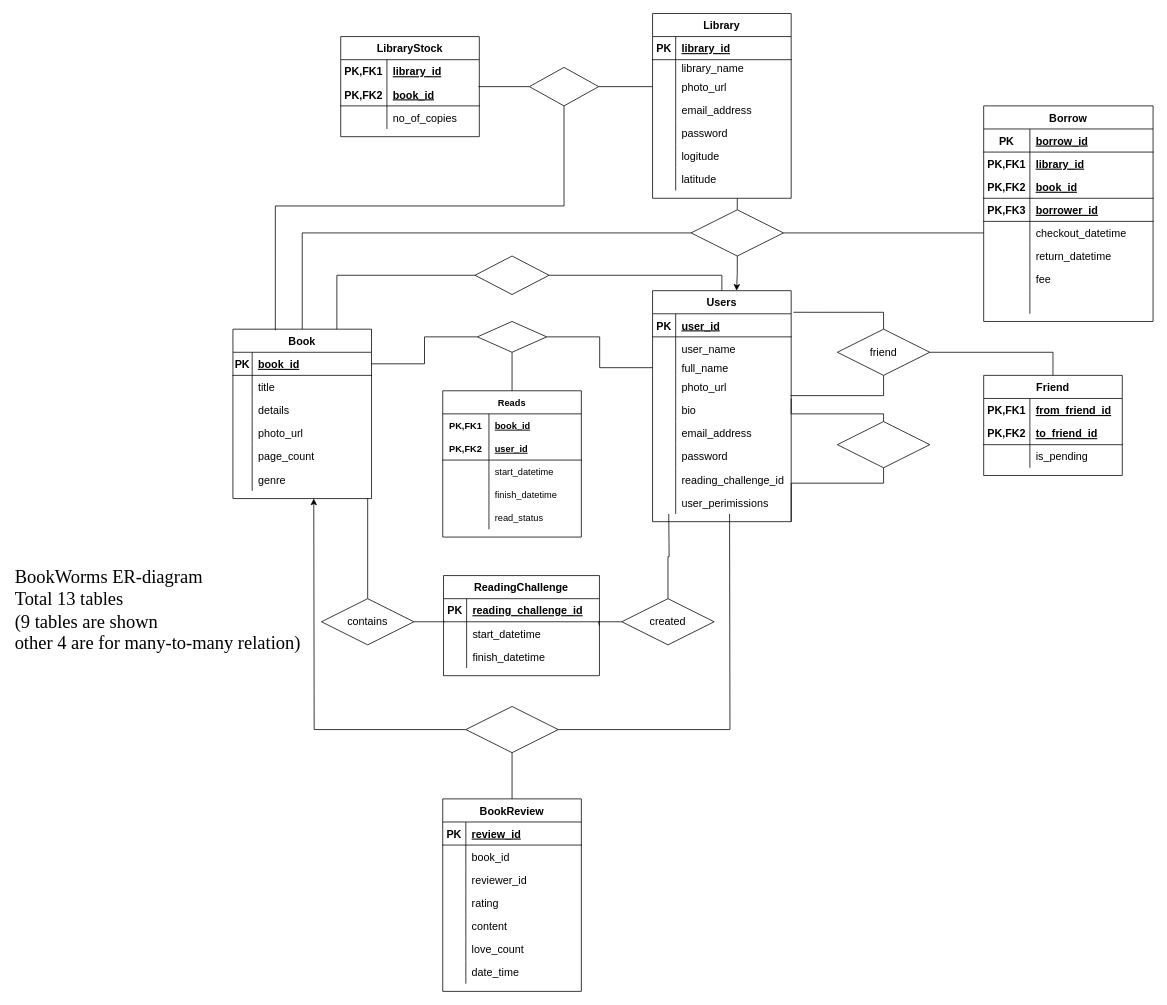
Some shapes in this 1167 by 1005 pixel diagram are drawn without their labels. The centre of each missing label's shape, as x and y in pixels:
"authored" belongs at [511,275].
"borrowed" belongs at [736,232].
"follow" belongs at [883,444].
"has" belongs at [564,86].
"read" belongs at [512,336].
"reviewed" belongs at [511,729].
